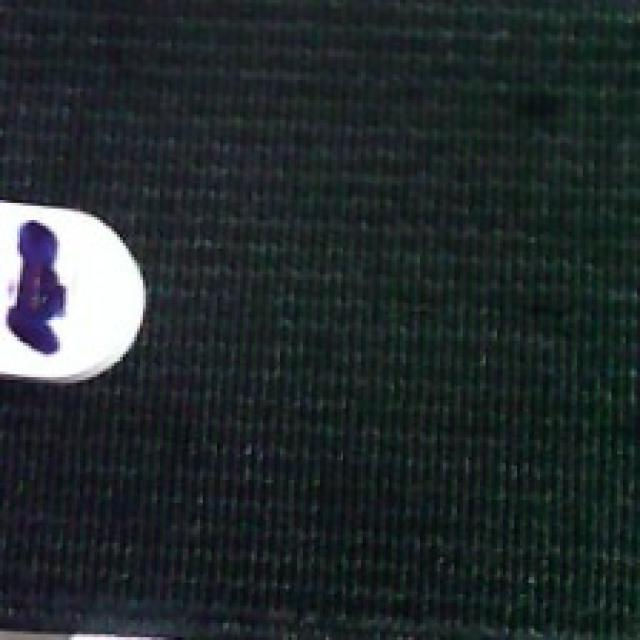defected: (0, 194, 154, 388)
